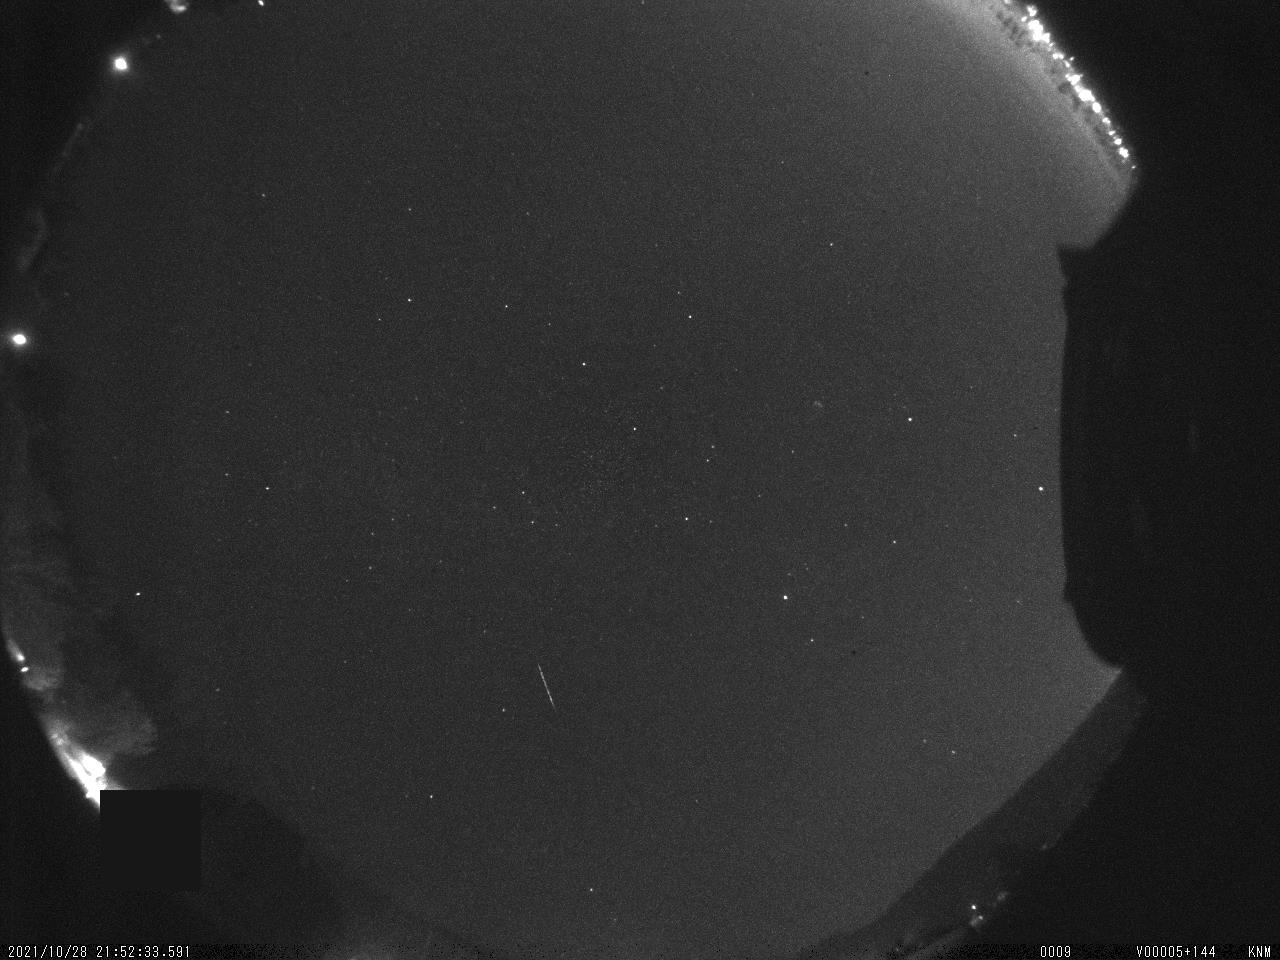meteor: (531, 654, 566, 719)
